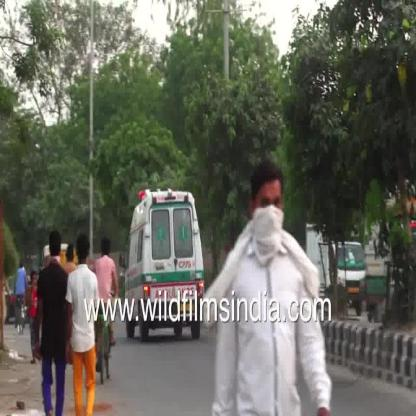priority: (124, 182, 208, 294)
